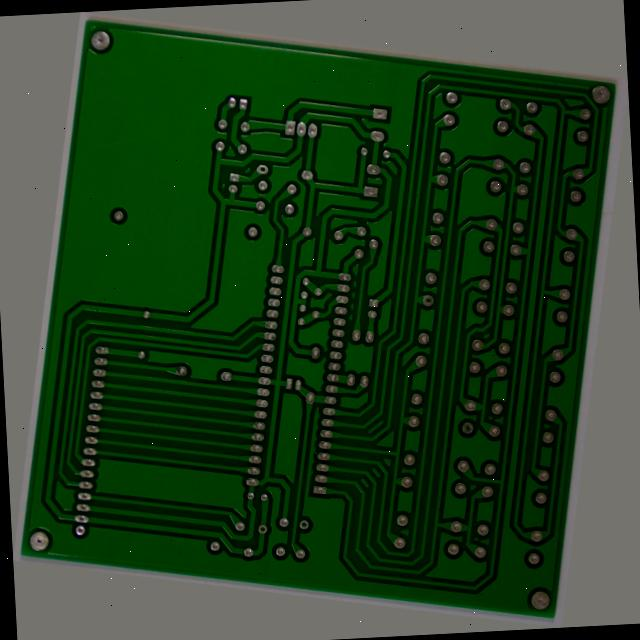missing_hole: (498, 405, 520, 422), (215, 152, 233, 169), (430, 268, 448, 284), (334, 549, 351, 565), (288, 562, 303, 578)
